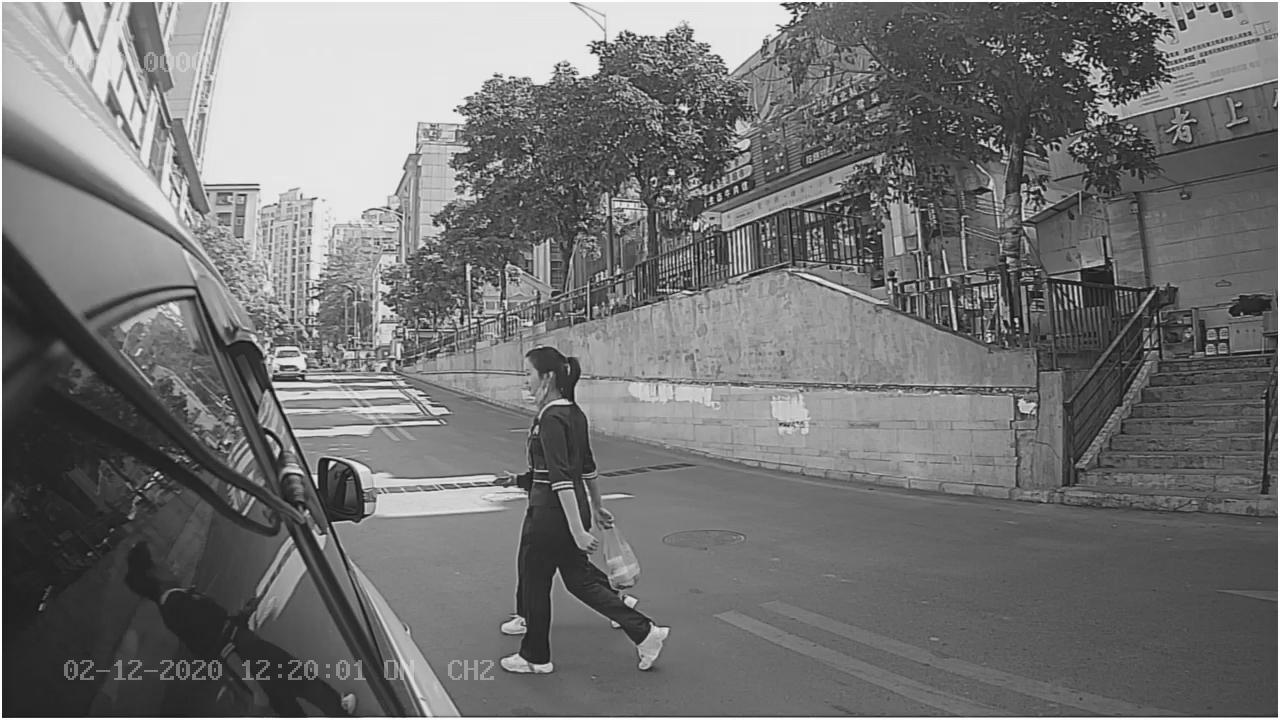person: (486, 344, 677, 692)
